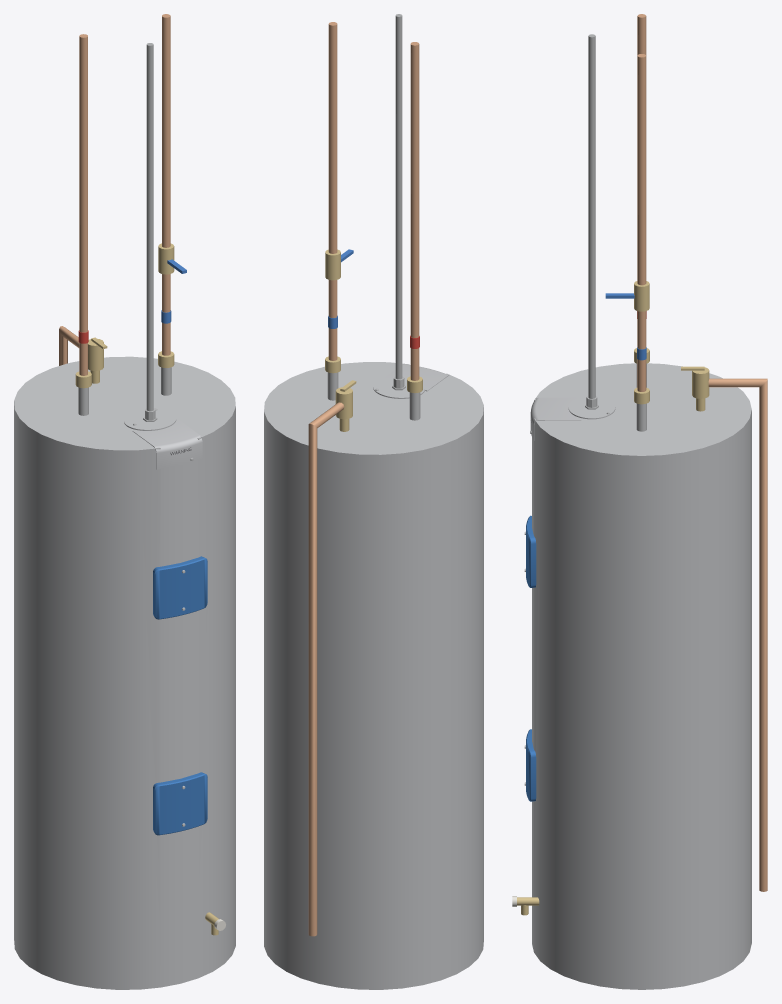
File: water_heater.glb
The picture shows the model from 3 angles, left to right: view 1: azimuth 30°, elevation 25°; view 2: azimuth 150°, elevation 25°; view 3: azimuth 270°, elevation 25°; orthographic projection.
Visible parts, largest first — view 1: WaterHeaterTank, HotWaterOutlet_Pipe, ElectricalWhip, UpperThermostatCover, LowerThermostatCover, ColdWaterInlet_Pipe, JunctionBoxCover, ElectricalJunctionPlate; view 2: WaterHeaterTank, TPDischargePipe, HotWaterOutlet_Pipe, ColdWaterInlet_Pipe, ElectricalWhip, JunctionBoxCover, ElectricalJunctionPlate; view 3: WaterHeaterTank, TPDischargePipe, ColdWaterInlet_Pipe, ElectricalWhip, JunctionBoxCover, ElectricalJunctionPlate, UpperThermostatCover, LowerThermostatCover.
Part boxes in pixels (x1=…): WaterHeaterTank: x1=14, y1=356, x2=235, y2=989; HotWaterOutlet_Pipe: x1=79, y1=34, x2=87, y2=375; ElectricalWhip: x1=146, y1=43, x2=153, y2=411; UpperThermostatCover: x1=153, y1=556, x2=207, y2=619; LowerThermostatCover: x1=153, y1=772, x2=207, y2=835; ColdWaterInlet_Pipe: x1=162, y1=14, x2=170, y2=355; JunctionBoxCover: x1=132, y1=419, x2=202, y2=469; ElectricalJunctionPlate: x1=124, y1=409, x2=176, y2=430; WaterHeaterTank: x1=264, y1=362, x2=483, y2=989; TPDischargePipe: x1=308, y1=402, x2=344, y2=936; HotWaterOutlet_Pipe: x1=410, y1=42, x2=419, y2=380; ColdWaterInlet_Pipe: x1=328, y1=22, x2=337, y2=360; ElectricalWhip: x1=395, y1=14, x2=402, y2=379; JunctionBoxCover: x1=383, y1=364, x2=449, y2=391; ElectricalJunctionPlate: x1=373, y1=377, x2=424, y2=398; WaterHeaterTank: x1=532, y1=363, x2=751, y2=989; TPDischargePipe: x1=708, y1=378, x2=767, y2=891; ColdWaterInlet_Pipe: x1=637, y1=54, x2=646, y2=391; ElectricalWhip: x1=588, y1=34, x2=595, y2=398; JunctionBoxCover: x1=530, y1=397, x2=580, y2=440; ElectricalJunctionPlate: x1=568, y1=396, x2=615, y2=419; UpperThermostatCover: x1=526, y1=515, x2=536, y2=587; LowerThermostatCover: x1=526, y1=729, x2=536, y2=801.
Size of the model in its own units: 0.56 by 2.55 by 0.6506.
